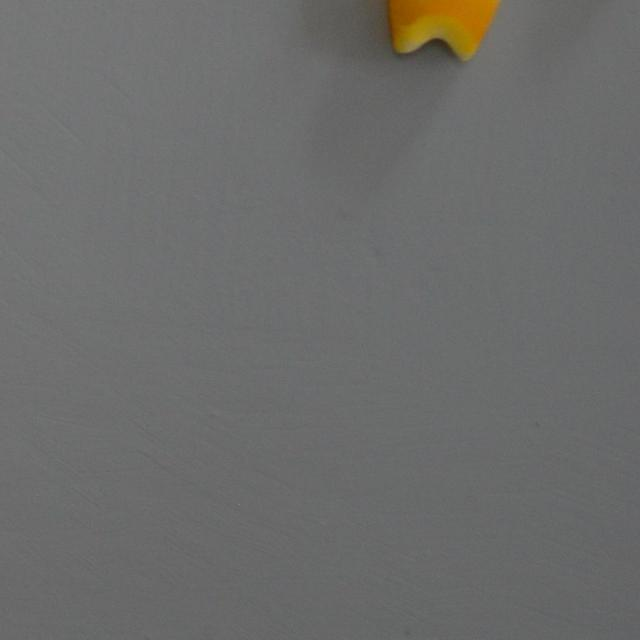no_canjicado: (384, 0, 504, 66)
